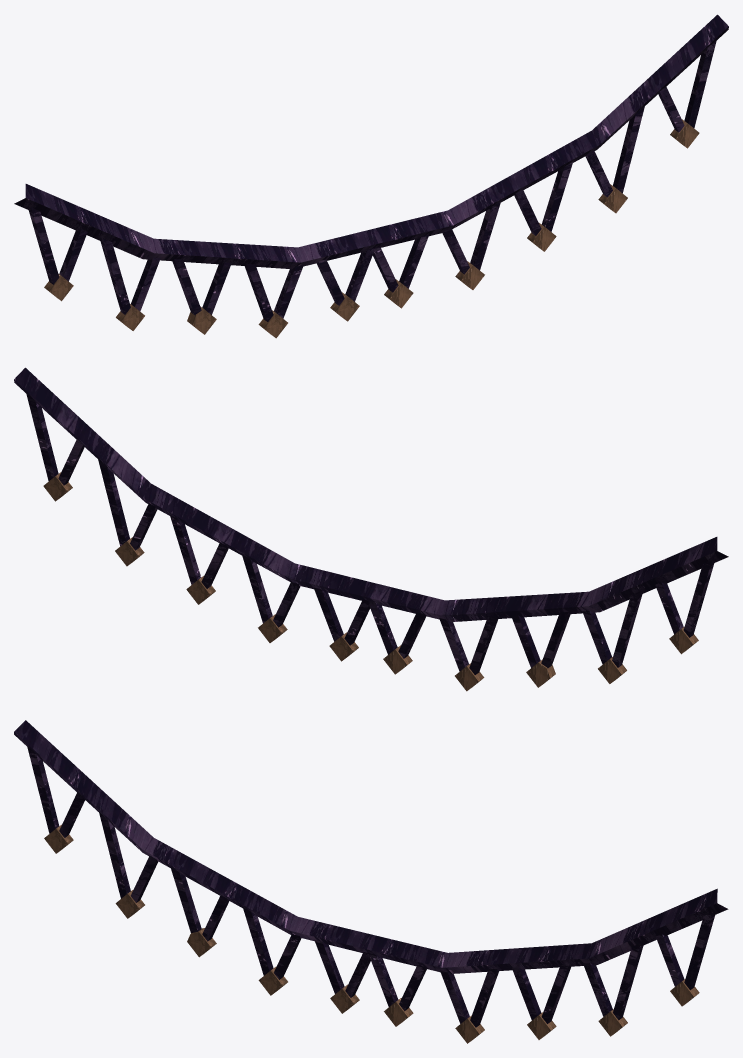
Rendered from fence-01-art.glb.
3 views of the same model, one above another, from view 1: azimuth 30°, elevation 25°; view 2: azimuth 150°, elevation 25°; view 3: azimuth 330°, elevation 25° (orthographic).
Parts seen in each view (by area): view 1: Fence_01_Art; view 2: Fence_01_Art; view 3: Fence_01_Art.
Boxes of the visible parts, bbox=[...] form: Fence_01_Art: bbox=[14, 14, 728, 338]; Fence_01_Art: bbox=[14, 367, 728, 691]; Fence_01_Art: bbox=[14, 720, 728, 1043].
Size of what is drawn, in the model's own units: 2.45 by 0.701 by 0.0696.
2 materials, 2 textured.
